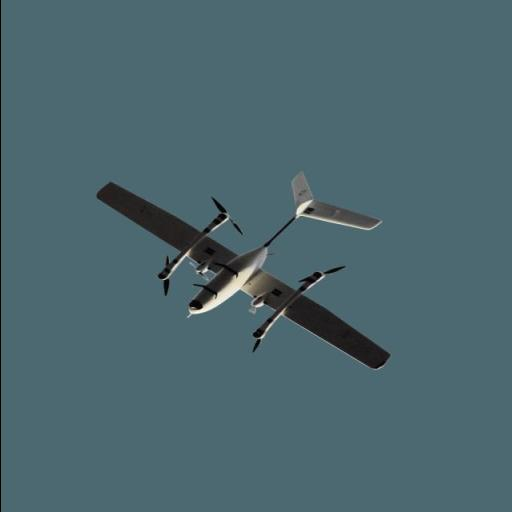uav: (63, 158, 407, 388)
